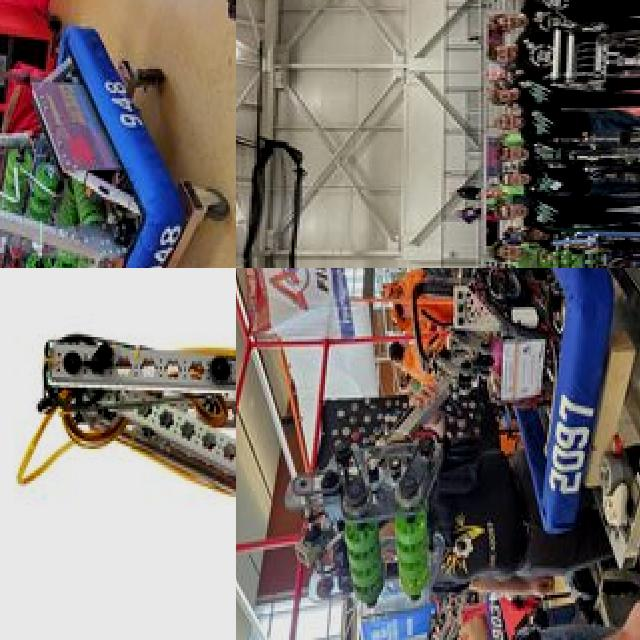FRC-Robots: (286, 268, 608, 626), (28, 268, 236, 640), (0, 30, 174, 268), (515, 106, 640, 211), (540, 0, 640, 99), (500, 214, 640, 268)
